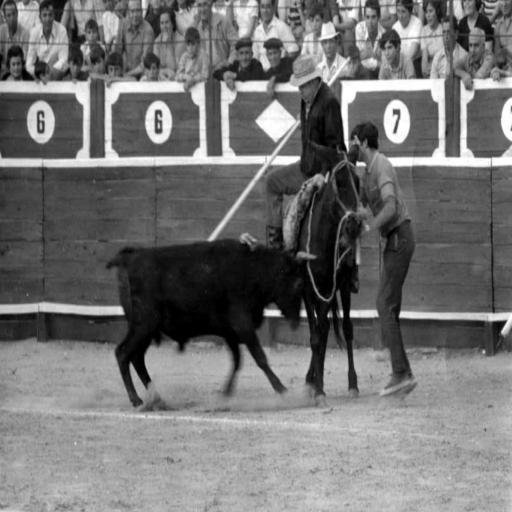horse: (293, 144, 360, 410)
